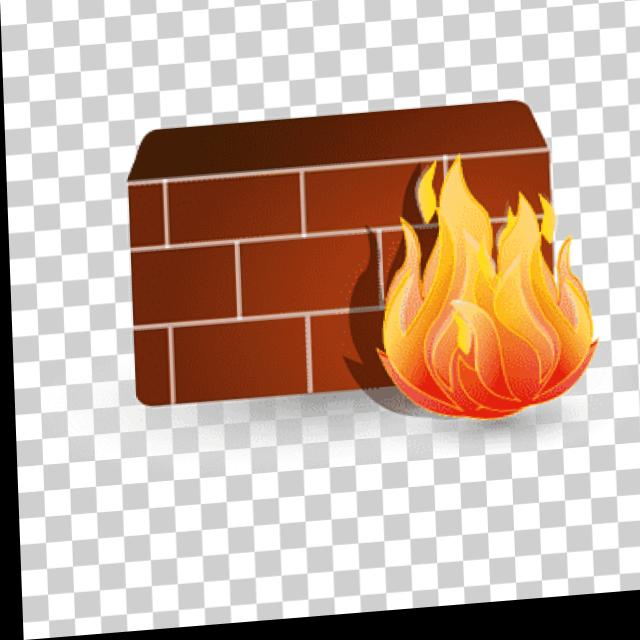Firewall: (94, 83, 629, 493)
